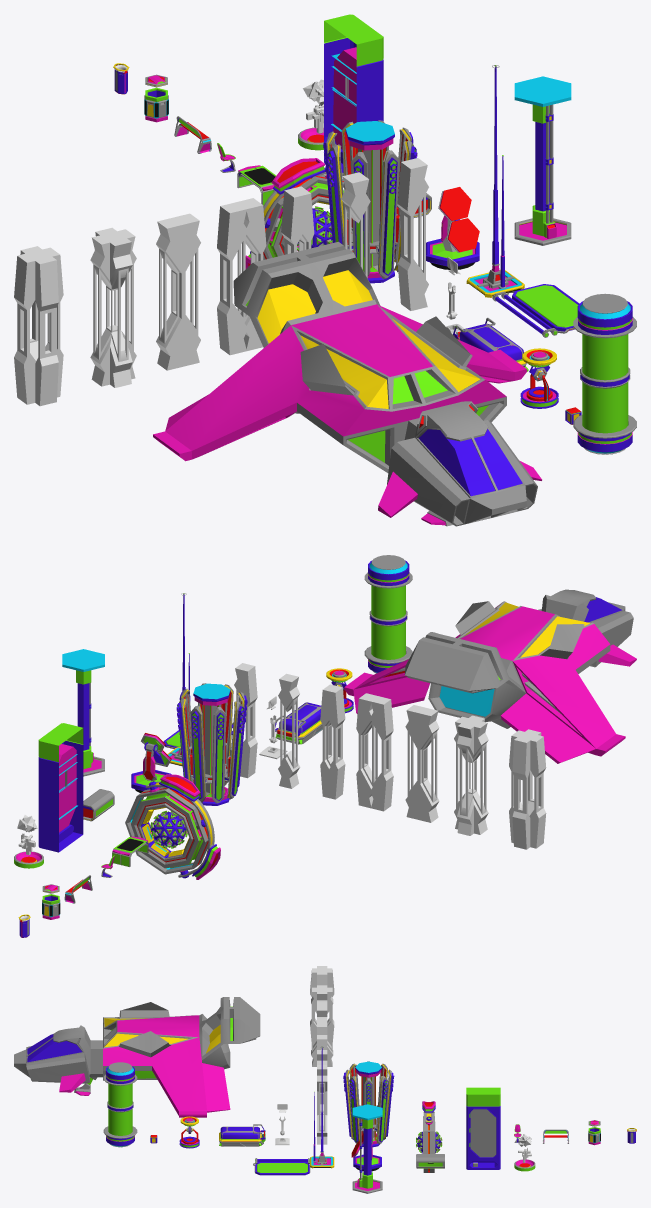
File: DecoPieces00.FBX
3 views of the same model, one above another, from view 1: azimuth 30°, elevation 25°; view 2: azimuth 150°, elevation 25°; view 3: azimuth 270°, elevation 25° (orthographic). The views are drawn at different scales.
Parts seen in each view (by area): view 1: Box032, Box013, Box023, Box014, Box012, Box011, Box010, Cylinder010, LabCapsule00, Cylinder019, Box004, Cylinder005 (+17 smaller); view 2: Box032, Box023, Box014, Cylinder006, Box013, Box010, Box012, Box011, Box009, LabCapsule00, Cylinder019, Cylinder010 (+9 smaller); view 3: Box032, Box023, Box014, Cylinder019, Cylinder010, LabCapsule00, Box012, Box013, Box004, Box021, Cylinder005, Cylinder007 (+4 smaller).
Boxes of the visible parts, x1,y1,x2,y2 form: Box032: (153,241,541,526); Box013: (14,246,63,406); Box023: (324,14,383,172); Box014: (323,120,417,278); Box012: (90,227,136,387); Box011: (156,213,200,370); Box010: (217,198,266,355); Cylinder010: (573,293,636,454); LabCapsule00: (582,334,628,433); Cylinder019: (514,76,571,245); Box004: (397,158,428,310); Cylinder005: (345,121,394,283); Box032: (344,589,636,763); Box023: (38,723,83,852); Box014: (176,683,247,803); Cylinder006: (125,781,208,878); Box013: (509,729,546,849); Box010: (356,693,393,811); Box012: (454,715,488,835); Box011: (405,705,439,822); Box009: (320,684,345,799); LabCapsule00: (371,585,405,659); Cylinder019: (62,649,104,776); Cylinder010: (364,555,412,673); Box032: (14,997,260,1117); Box023: (466,1087,500,1169); Box014: (343,1061,394,1144); Cylinder019: (352,1104,382,1193); Cylinder010: (103,1062,137,1147); LabCapsule00: (108,1083,132,1135); Box012: (311,985,333,1066); Box013: (310,966,334,1045); Box004: (317,1065,327,1144); Box021: (253,1162,310,1175); Cylinder005: (355,1061,382,1147); Cylinder007: (220,1126,265,1139).
Size of the model in its own units: 526 by 236 by 903.
